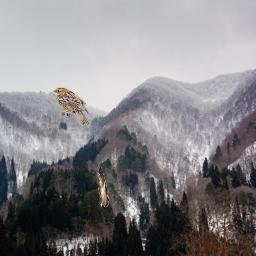Sparrow: (53, 87, 90, 127)
Swallow: (97, 167, 109, 207)
